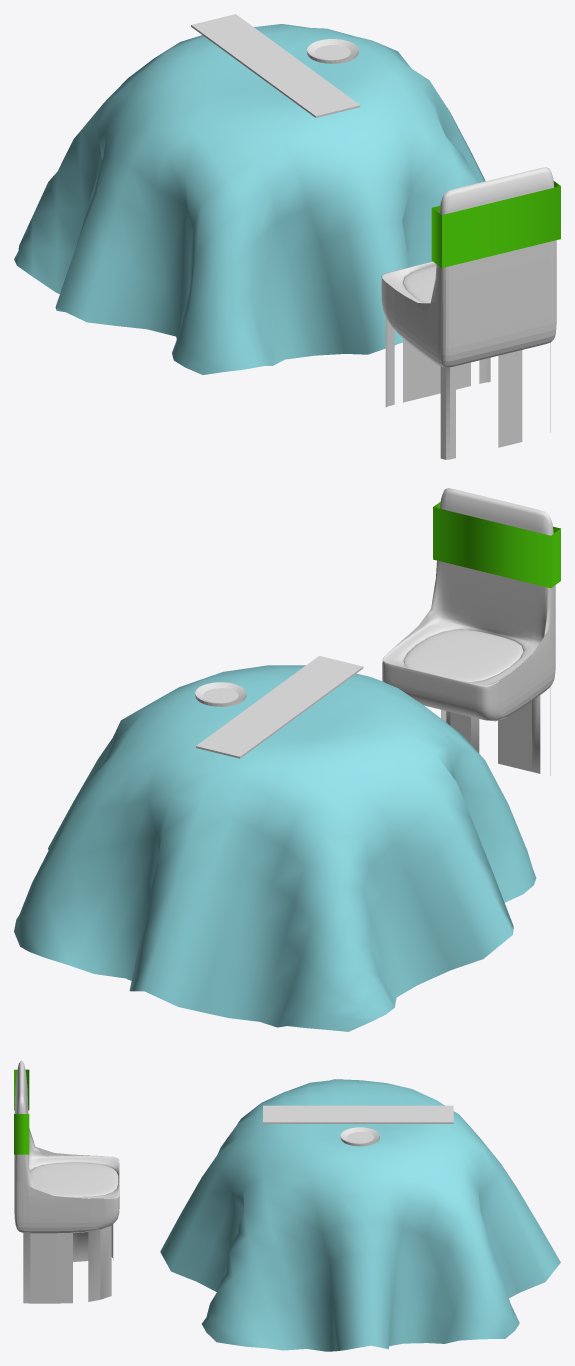
Rendered from PFScene2.gltf.
3 renders of one model, top to bottom at view 1: azimuth 30°, elevation 25°; view 2: azimuth 150°, elevation 25°; view 3: azimuth 270°, elevation 25°, orthographic. The views are drawn at different scales.
Visible parts, largest first — view 1: TableCloth, Chair.001, ChairRunner, TableRunner, Plate; view 2: TableCloth, Chair.001, ChairRunner, TableRunner, Plate; view 3: TableCloth, Chair.001, TableRunner, ChairRunner, Plate.
Part boxes in pixels (x1,y1,x2,y2): TableCloth: (14, 24, 485, 374); Chair.001: (381, 167, 556, 459); ChairRunner: (431, 181, 560, 267); TableRunner: (191, 14, 360, 117); Plate: (307, 39, 358, 63); TableCloth: (14, 665, 536, 1031); Chair.001: (382, 488, 555, 775); ChairRunner: (433, 502, 560, 588); TableRunner: (196, 656, 363, 758); Plate: (195, 682, 246, 706); TableCloth: (160, 1079, 560, 1351); Chair.001: (14, 1060, 119, 1303); TableRunner: (263, 1105, 453, 1123); ChairRunner: (14, 1069, 29, 1154); Plate: (340, 1127, 379, 1146).
Size of the model in its own units: 152 by 92.26 by 208.
